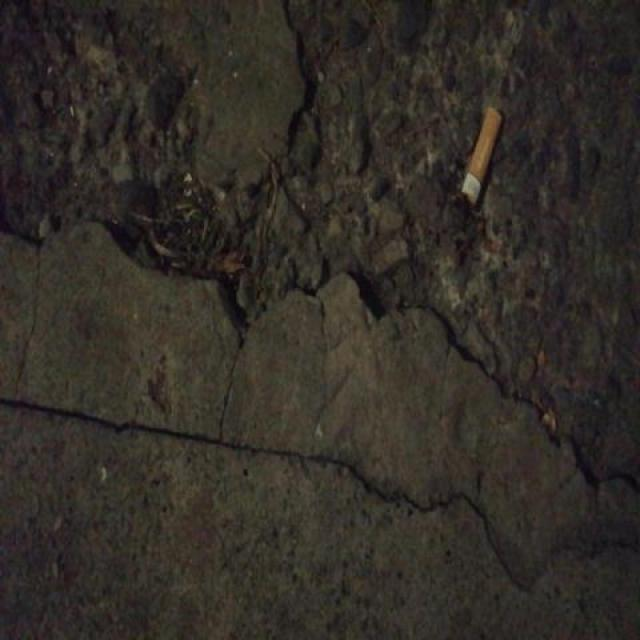non-organic waste: (458, 100, 505, 209)
